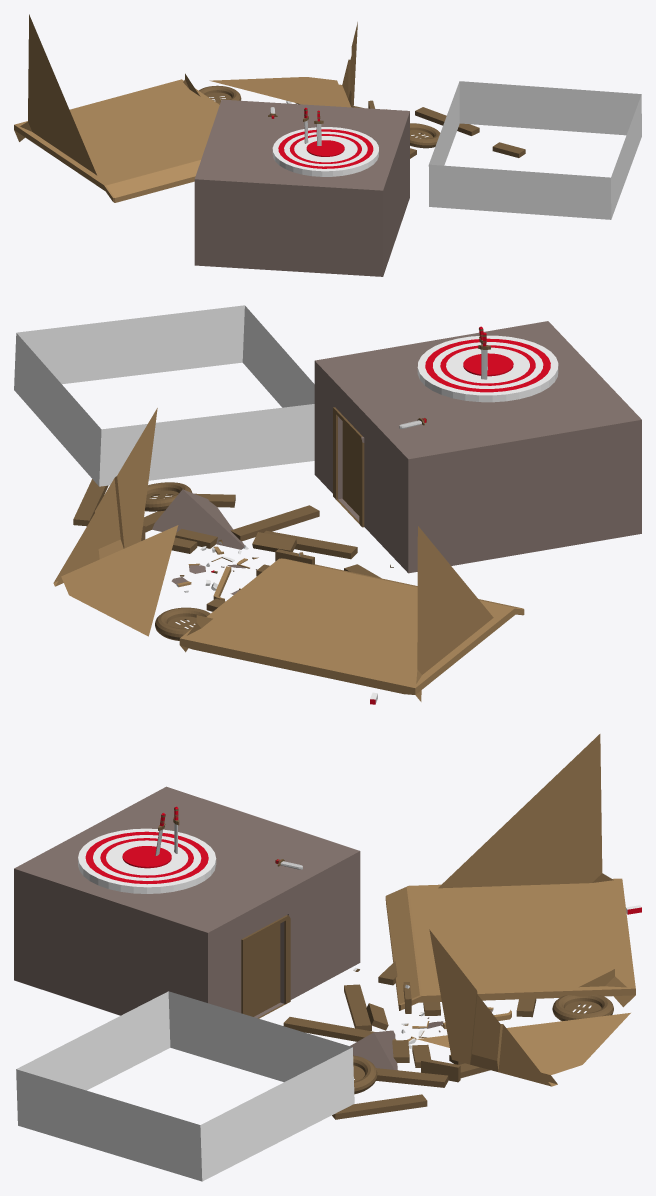
File: casa das tropas (guardas) quebrada.fbx
The picture shows the model from 3 angles, top to bottom: view 1: azimuth 30°, elevation 25°; view 2: azimuth 150°, elevation 25°; view 3: azimuth 270°, elevation 25°; orthographic projection. The views are drawn at different scales.
Visible parts, largest first — view 1: Torus.003_cell.035, Torus.003_cell.036, Torus.003_cell.001, Cube.001, Torus.003_cell.003, Torus.003_cell.006, Torus.003_cell.007, Torus.003_cell.025; view 2: Torus.003_cell.035, Torus.003_cell.036, Torus.003_cell.001, Torus.003_cell.003, Cube.001, Torus.003_cell.002, Torus.003_cell.010, Torus.003_cell.025, Torus.003_cell.026, Torus.003_cell.006, Torus.003_cell.007, Torus.003_cell.038; view 3: Torus.003_cell.035, Torus.003_cell.001, Torus.003_cell.036, Torus.003_cell.003, Cube.001, Torus.003_cell.025, Torus.003_cell.002, Torus.003_cell.007, Torus.003_cell.010, Torus.003_cell.039, Torus.003_cell.026, Torus.003_cell.006.
Part boxes in pixels (box(x1,y1,x2,y2)): Torus.003_cell.035: box(194, 99, 409, 276); Torus.003_cell.036: box(428, 81, 641, 219); Torus.003_cell.001: box(14, 14, 219, 202); Cube.001: box(272, 107, 378, 176); Torus.003_cell.003: box(209, 22, 357, 107); Torus.003_cell.006: box(410, 123, 440, 148); Torus.003_cell.007: box(415, 107, 479, 135); Torus.003_cell.025: box(199, 85, 241, 104); Torus.003_cell.035: box(314, 321, 641, 573); Torus.003_cell.036: box(14, 305, 314, 486); Torus.003_cell.001: box(179, 526, 524, 701); Torus.003_cell.003: box(53, 408, 178, 636); Cube.001: box(417, 326, 558, 402); Torus.003_cell.002: box(152, 489, 244, 549); Torus.003_cell.010: box(230, 505, 319, 541); Torus.003_cell.025: box(155, 607, 210, 640); Torus.003_cell.026: box(264, 530, 357, 559); Torus.003_cell.006: box(145, 482, 192, 511); Torus.003_cell.007: box(73, 479, 108, 526); Torus.003_cell.038: box(252, 532, 296, 551); Torus.003_cell.035: box(14, 786, 360, 1018); Torus.003_cell.001: box(385, 734, 635, 1010); Torus.003_cell.036: box(16, 991, 354, 1181); Torus.003_cell.003: box(417, 929, 630, 1086); Cube.001: box(78, 806, 216, 893); Torus.003_cell.025: box(552, 994, 613, 1021); Torus.003_cell.002: box(350, 1030, 397, 1070); Torus.003_cell.007: box(332, 1094, 427, 1119); Torus.003_cell.010: box(283, 1017, 375, 1041); Torus.003_cell.039: box(376, 1068, 448, 1087); Torus.003_cell.026: box(344, 984, 371, 1030); Torus.003_cell.006: box(353, 1055, 377, 1094).
Bounding box in the file's own units: 565 × 151 × 509.
